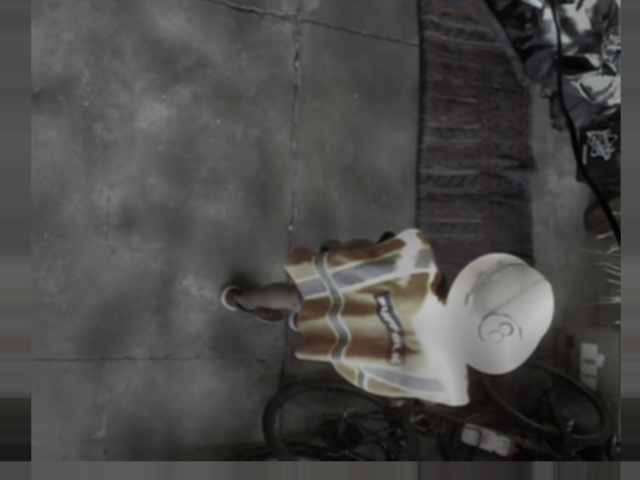eight: (477, 313, 523, 353)
